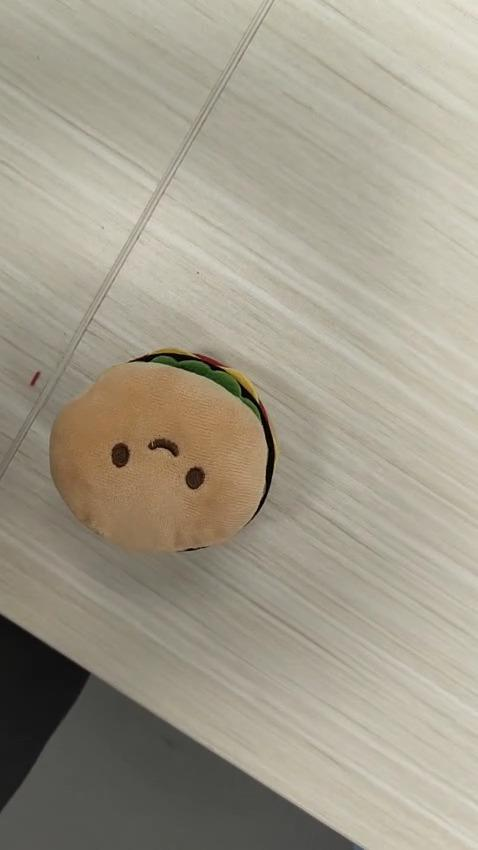hamburger: (47, 341, 280, 563)
